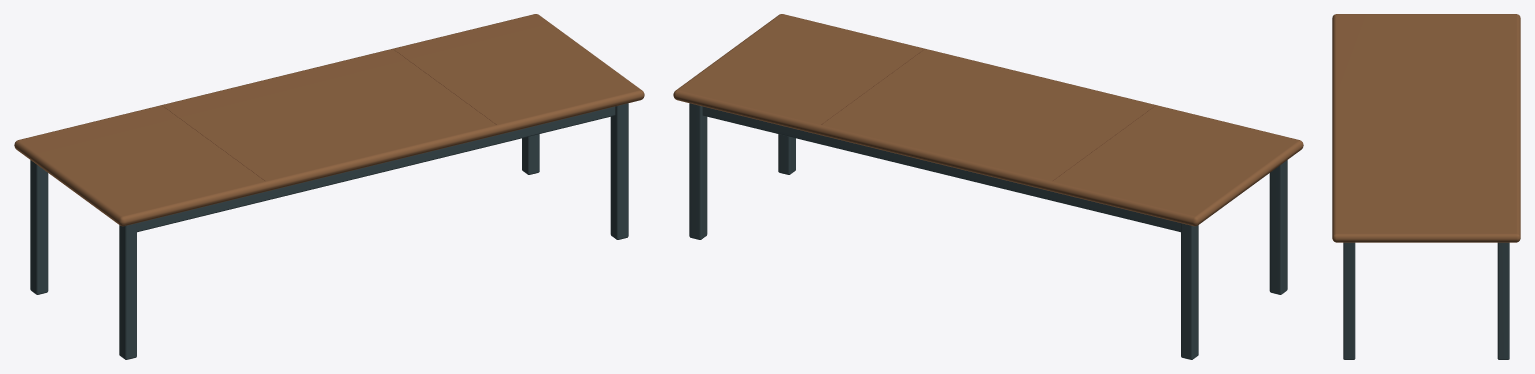
The model's file is HotelTogether-DiningTableLong.glb.
3 views of the same model, side by side, from view 1: azimuth 30°, elevation 25°; view 2: azimuth 150°, elevation 25°; view 3: azimuth 270°, elevation 25° (orthographic). The views are drawn at different scales.
Parts seen in each view (by area): view 1: Table_WoodTop, Table_Apron, Table_Leg.002, Table_Leg.001, Table_Leg, Table_Leg.003; view 2: Table_WoodTop, Table_Apron.001, Table_Leg.003, Table_Leg, Table_Leg.001, Table_Leg.002; view 3: Table_WoodTop, Table_Leg.002, Table_Leg.003.
Part boxes in pixels (x1=…): Table_WoodTop: x1=14, y1=14, x2=644, y2=226; Table_Apron: x1=137, y1=106, x2=615, y2=232; Table_Leg.002: x1=610, y1=103, x2=628, y2=239; Table_Leg.001: x1=30, y1=160, x2=48, y2=294; Table_Leg: x1=119, y1=223, x2=136, y2=359; Table_Leg.003: x1=522, y1=134, x2=539, y2=174; Table_WoodTop: x1=673, y1=14, x2=1303, y2=226; Table_Apron.001: x1=702, y1=106, x2=1180, y2=232; Table_Leg.003: x1=689, y1=103, x2=707, y2=239; Table_Leg: x1=1269, y1=160, x2=1287, y2=294; Table_Leg.001: x1=1181, y1=223, x2=1198, y2=359; Table_Leg.002: x1=778, y1=134, x2=795, y2=174; Table_WoodTop: x1=1332, y1=14, x2=1520, y2=242; Table_Leg.002: x1=1343, y1=242, x2=1355, y2=359; Table_Leg.003: x1=1497, y1=242, x2=1509, y2=359.
Size of the model in its own units: 2.8 by 0.7605 by 1.
